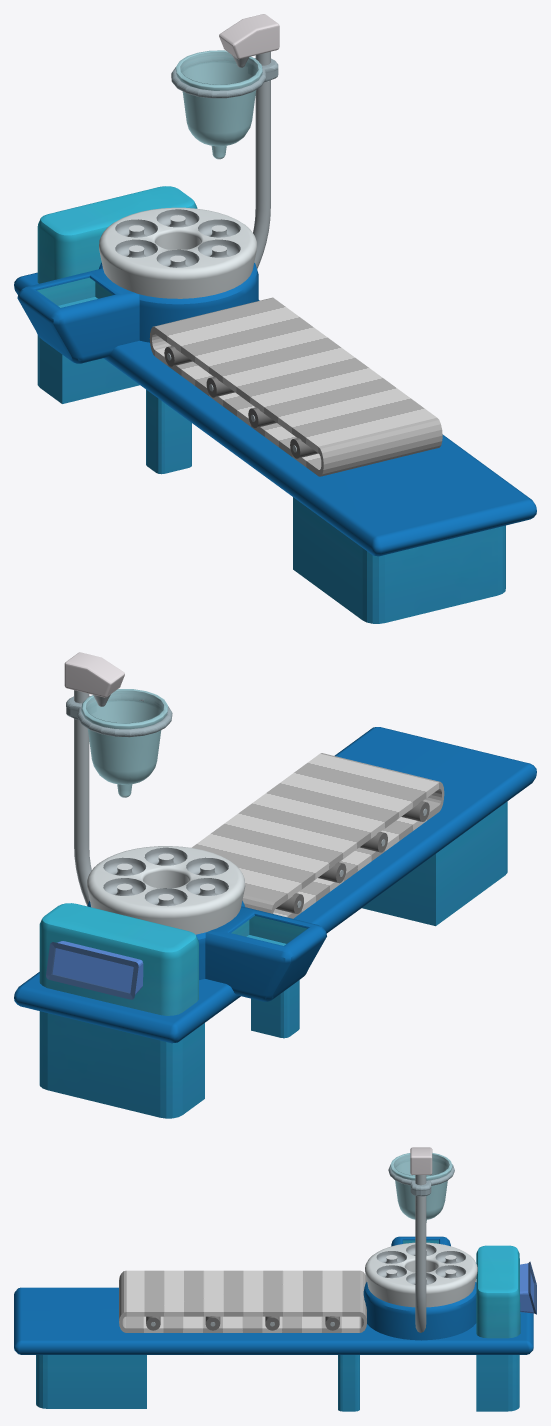
The model's file is machine1.fbx.
The picture shows the model from 3 angles, top to bottom: view 1: azimuth 30°, elevation 25°; view 2: azimuth 150°, elevation 25°; view 3: azimuth 270°, elevation 25°; orthographic projection. The views are drawn at different scales.
Visible parts, largest first — view 1: Cube.002, Plane.001, pCube5, six1, pCube3, pCylinder3, pCylinder2, pCylinder24, pCube64, pTorus4; view 2: Cube.002, Plane.001, pCube5, six1, pCube3, pCylinder3, polySurface1, pCylinder24, pCube64, pTorus4; view 3: pCube5, Plane.001, Cube.002, six1, pCylinder2, pCylinder3, pCylinder24, polySurface1, pTorus4, pCube64, pCube3.
Boxes of the visible parts, x1,y1,x2,y2 form: Cube.002: [37, 186, 505, 623]; Plane.001: [149, 297, 442, 476]; pCube5: [14, 272, 536, 556]; six1: [99, 207, 256, 298]; pCube3: [17, 268, 139, 363]; pCylinder3: [175, 50, 262, 146]; pCylinder2: [99, 262, 258, 342]; pCylinder24: [253, 51, 270, 268]; pCube64: [219, 14, 279, 59]; pTorus4: [171, 55, 278, 98]; Cube.002: [39, 801, 507, 1118]; Plane.001: [191, 753, 444, 918]; pCube5: [14, 727, 536, 1043]; six1: [87, 846, 245, 934]; pCube3: [205, 906, 326, 1001]; pCylinder3: [81, 689, 168, 784]; polySurface1: [46, 941, 143, 999]; pCylinder24: [74, 690, 91, 905]; pCube64: [64, 652, 124, 697]; pTorus4: [66, 693, 172, 737]; pCube5: [14, 1287, 533, 1354]; Plane.001: [119, 1270, 366, 1332]; Cube.002: [36, 1245, 520, 1411]; six1: [365, 1242, 477, 1307]; pCylinder2: [363, 1282, 476, 1340]; pCylinder3: [390, 1153, 452, 1219]; pCylinder24: [415, 1175, 426, 1332]; polySurface1: [520, 1261, 536, 1314]; pTorus4: [388, 1156, 454, 1196]; pCube64: [410, 1147, 432, 1174]; pCube3: [391, 1236, 450, 1246].
Size of the model in its own units: 524 by 770 by 1375.
Materials: 5 (2 with a texture image).
